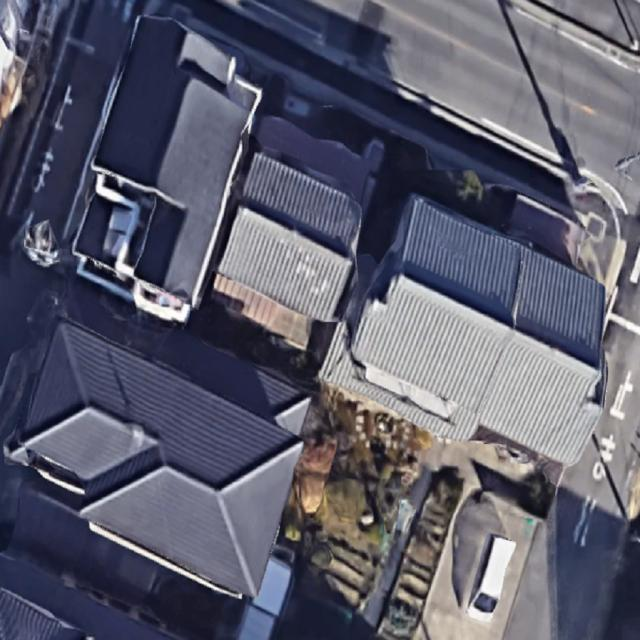Batiment: (5, 312, 311, 595), (320, 196, 605, 464), (74, 16, 260, 320), (214, 117, 384, 348)
